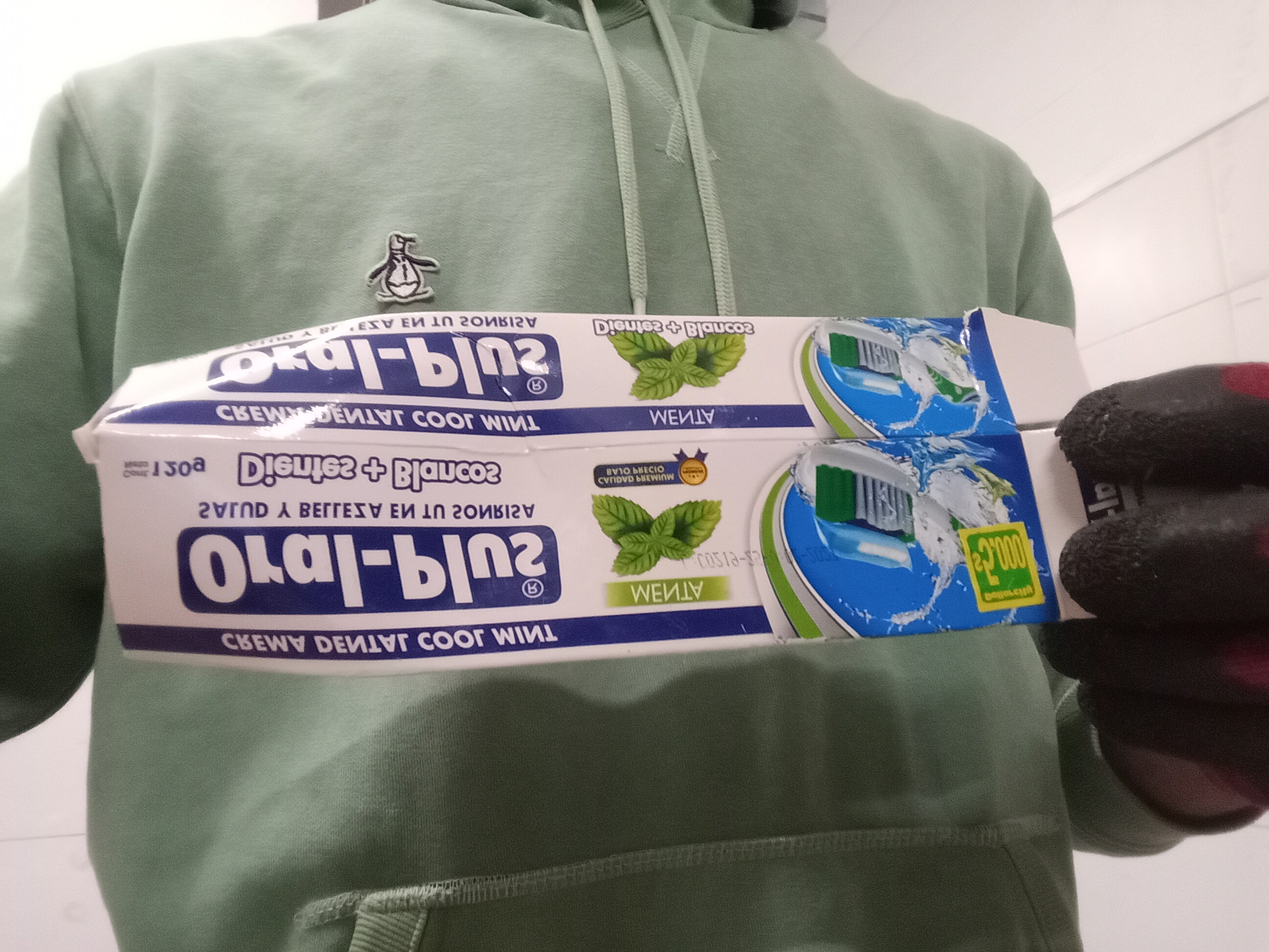Carton: (100, 313, 1124, 674)
